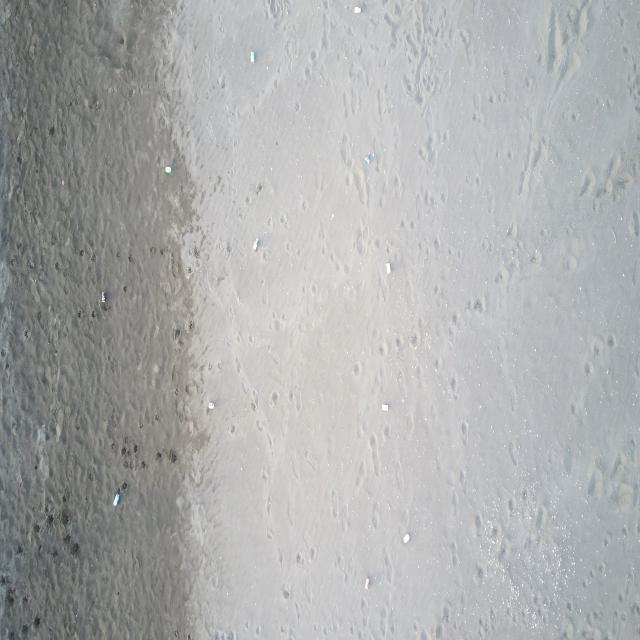tin-and-aluminum-cans: (251, 235, 260, 252), (364, 574, 371, 592), (385, 260, 392, 276), (402, 532, 411, 544), (100, 289, 106, 306), (114, 492, 120, 508), (250, 50, 256, 66), (165, 165, 173, 177), (354, 3, 362, 15), (364, 153, 371, 166), (207, 401, 216, 411), (381, 402, 390, 412), (164, 165, 170, 174)
